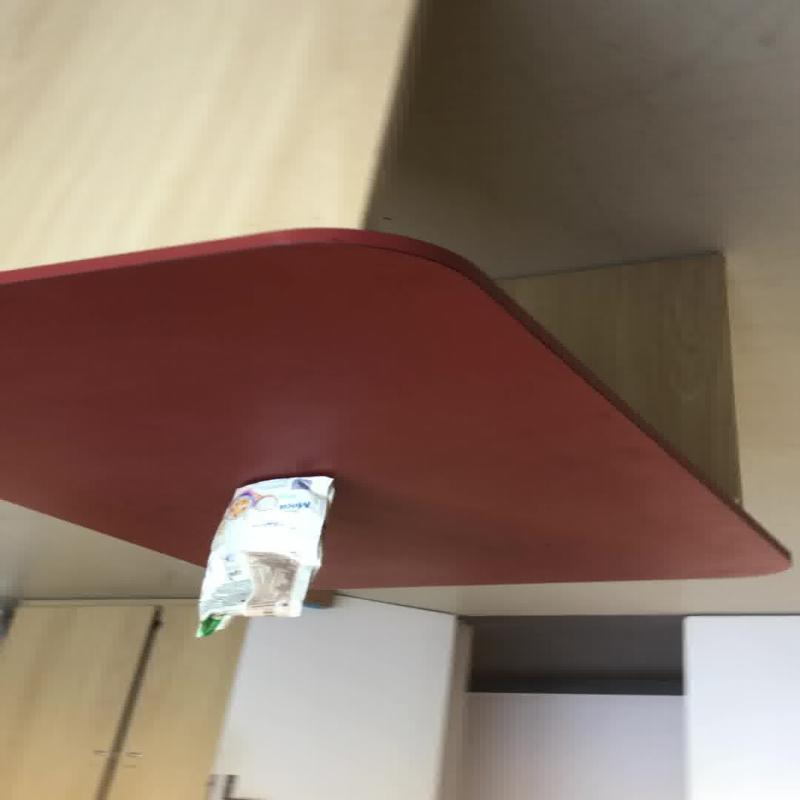corn flakes: (192, 474, 334, 638)
